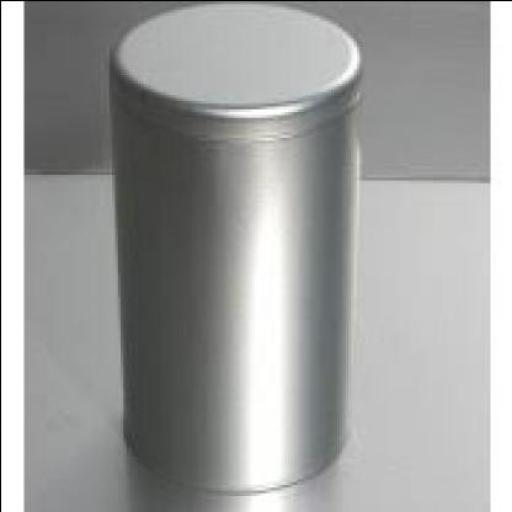metal: (107, 1, 356, 486)
